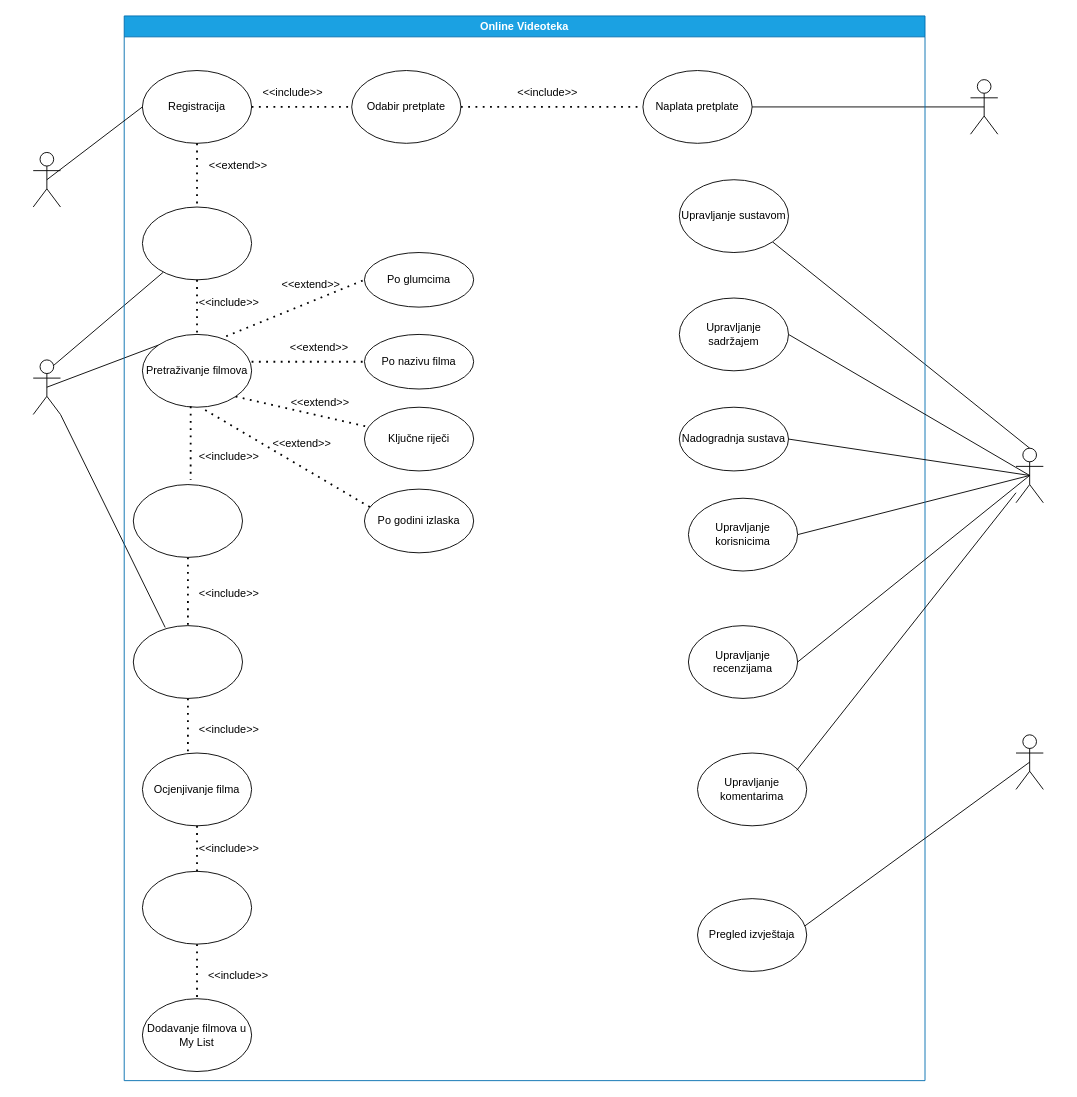
This 1077x1097 diagram has some shape labels left out. Each missing label, with the centre of its shape:
Administrator: [1029,475]
Banka: [984,106]
Gledanje filma: [187,661]
Komentari: [197,907]
Korisnik gost: [46,179]
Pogled na detalje filma: [187,520]
Prijava: [197,243]
Registrirani korisnik: [46,387]
Vlasnik: [1029,761]
